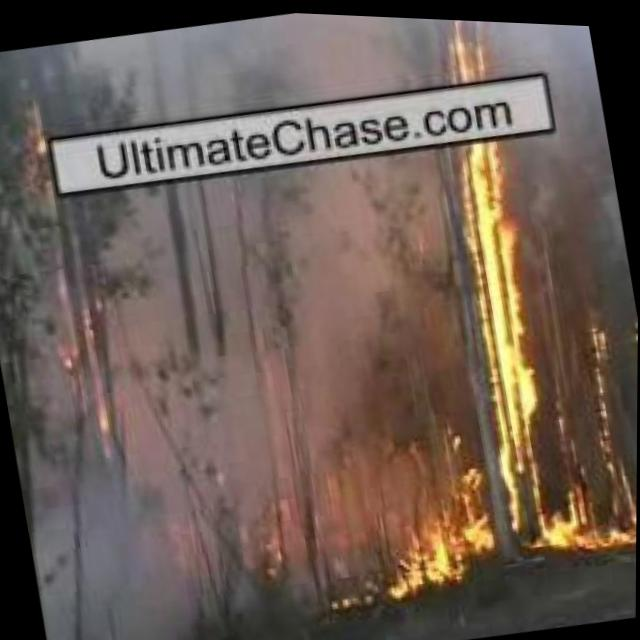Fire: (429, 20, 580, 551), (389, 498, 516, 604), (608, 484, 637, 544)
